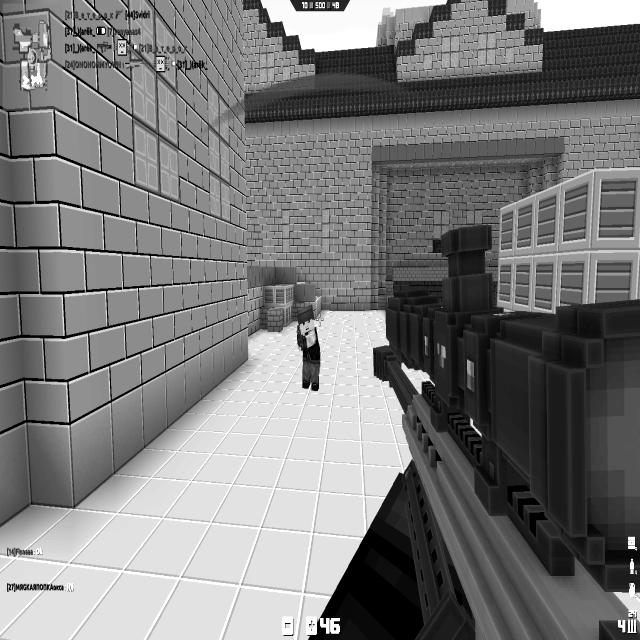Head: (297, 305, 314, 333)
Player: (296, 305, 321, 391)
